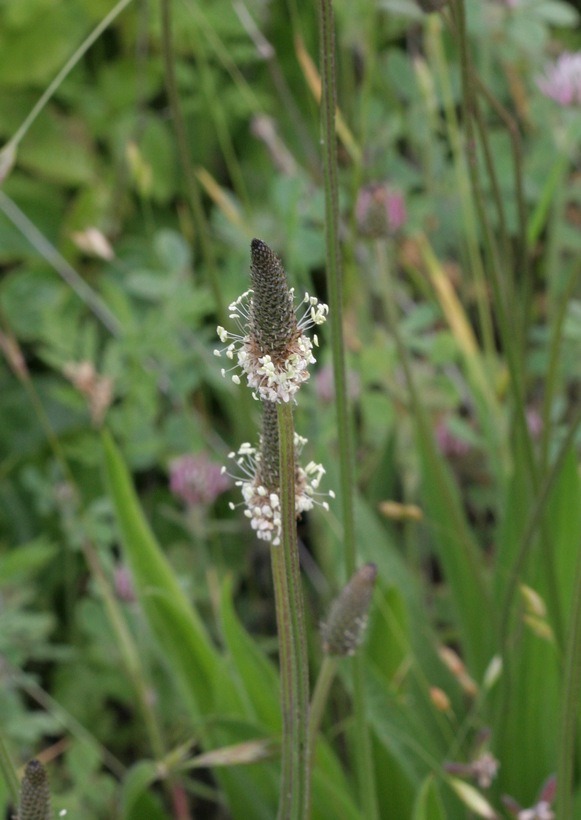buckhorn plantain: (156, 199, 391, 720)
